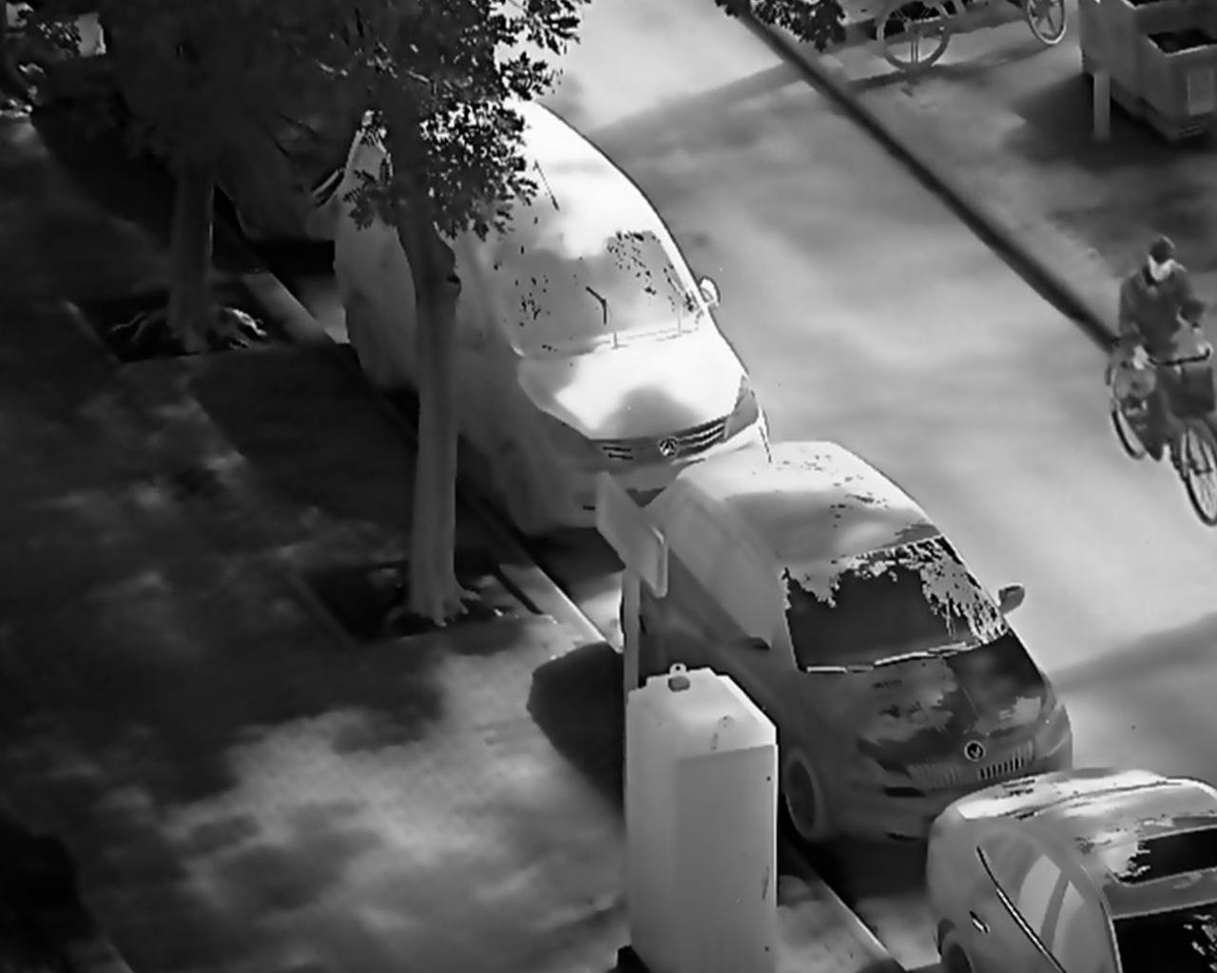person: (1116, 233, 1207, 439)
